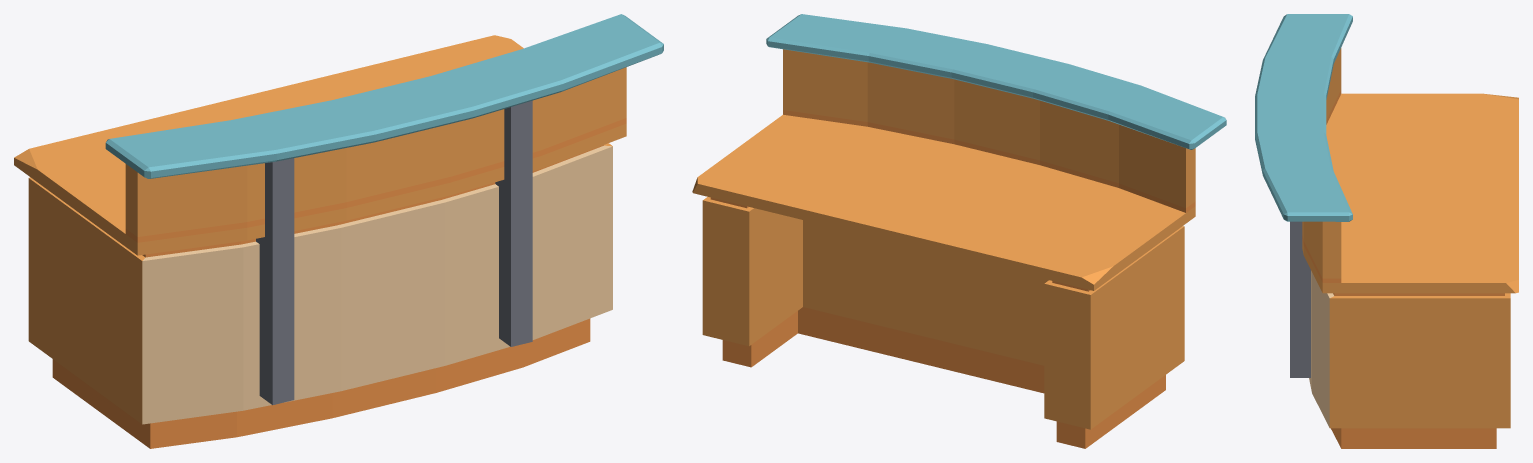
The model's file is SM_Prop_Shop_Desk_06.fbx.
3 renders of one model, left to right at view 1: azimuth 30°, elevation 25°; view 2: azimuth 150°, elevation 25°; view 3: azimuth 270°, elevation 25°, orthographic. The views are drawn at different scales.
Visible parts, largest first — view 1: SM_Prop_Shop_Desk_06; view 2: SM_Prop_Shop_Desk_06; view 3: SM_Prop_Shop_Desk_06.
Part boxes in pixels (x1=…): SM_Prop_Shop_Desk_06: x1=14, y1=14, x2=663, y2=448; SM_Prop_Shop_Desk_06: x1=692, y1=14, x2=1226, y2=448; SM_Prop_Shop_Desk_06: x1=1255, y1=14, x2=1518, y2=448.
Size of the model in its own units: 204 by 118 by 113.
1 material, 1 textured.
